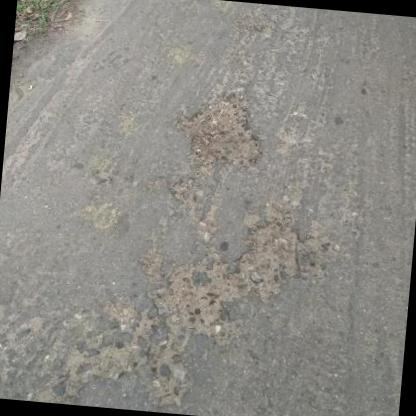pothole: (144, 248, 238, 340), (169, 88, 267, 174), (233, 215, 308, 303)
